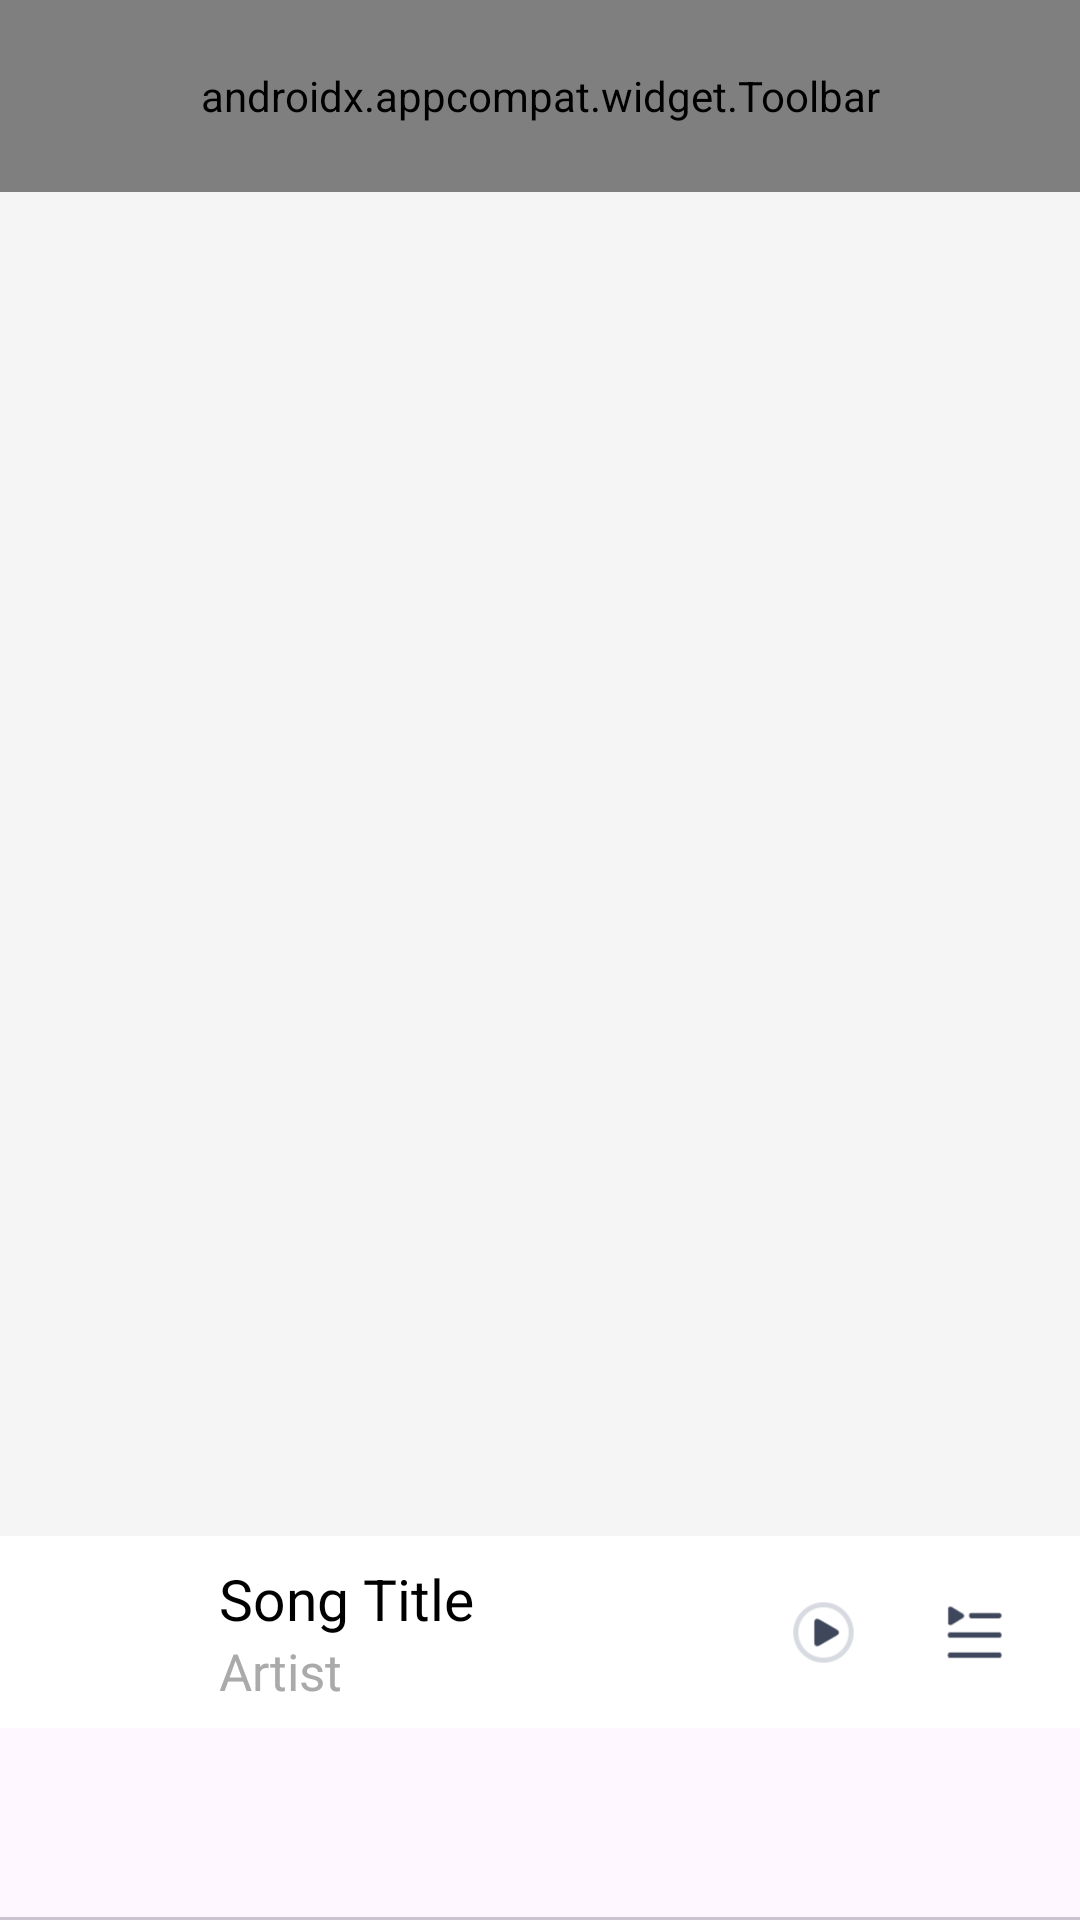

Screen size 1080 x 1920. Icon name, then its center in pixels as (x=x, y=y):
Play: (x=823, y=1632)
